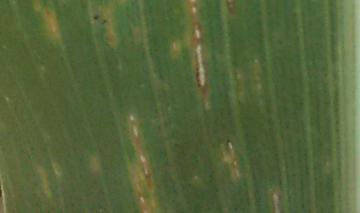tarspot: (91, 13, 99, 22), (101, 18, 109, 25), (225, 137, 231, 143)
